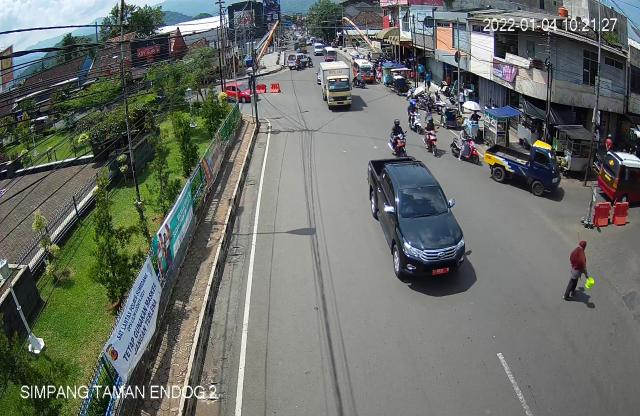Mobil: (364, 155, 470, 296), (486, 132, 564, 204), (600, 146, 640, 210)
Motor: (449, 120, 481, 169), (385, 116, 410, 158), (422, 116, 441, 156), (404, 95, 423, 133)
Truk: (319, 61, 357, 112)
